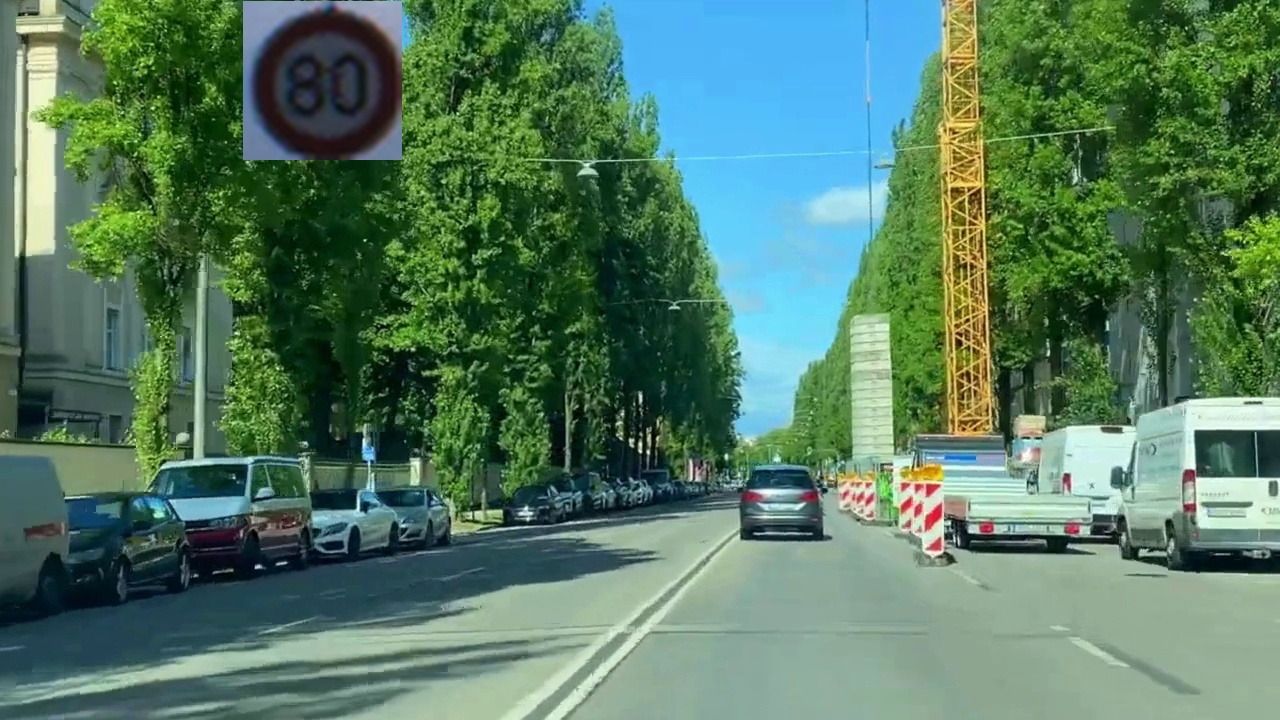Speed 80: (243, 1, 402, 160)
